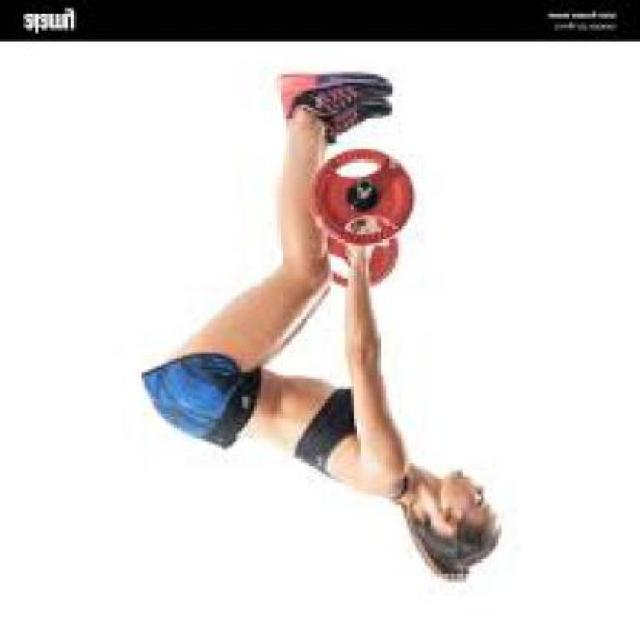Barbell: (356, 173, 378, 196)
